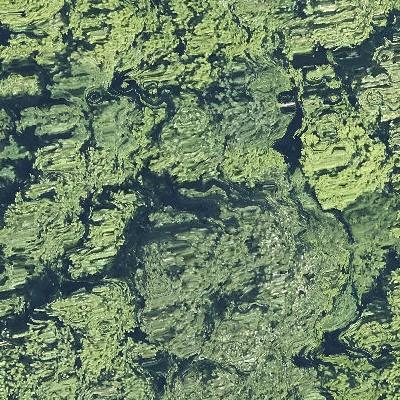tree-top: (138, 188, 350, 367), (2, 266, 144, 396), (290, 98, 396, 214), (161, 83, 291, 158), (238, 0, 400, 51), (58, 187, 141, 285), (0, 178, 84, 264), (313, 345, 400, 400), (352, 30, 400, 127), (340, 300, 400, 361), (0, 66, 43, 105)
